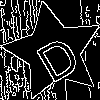D: (28, 26, 84, 85)
